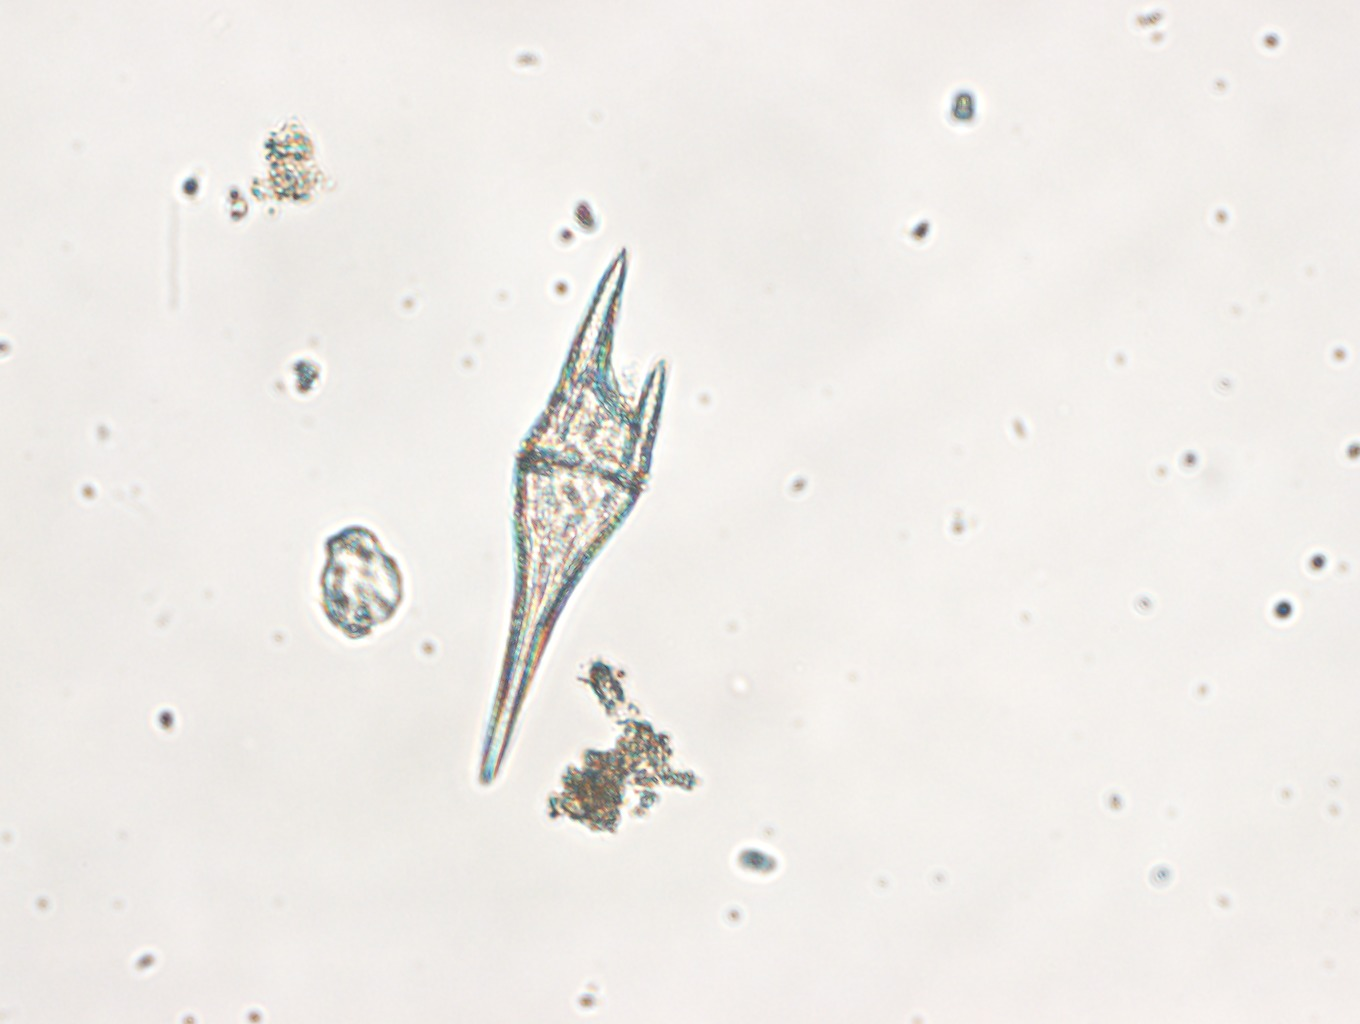ceratium furca: (476, 244, 667, 786)
